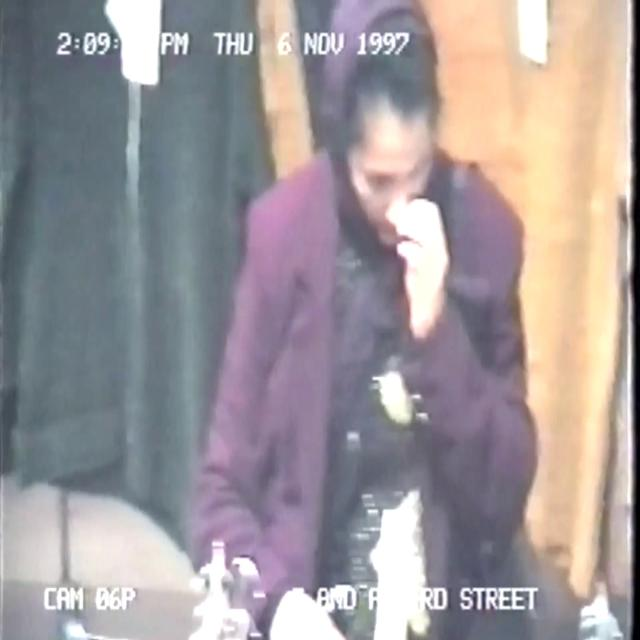normal: (188, 0, 578, 640)
